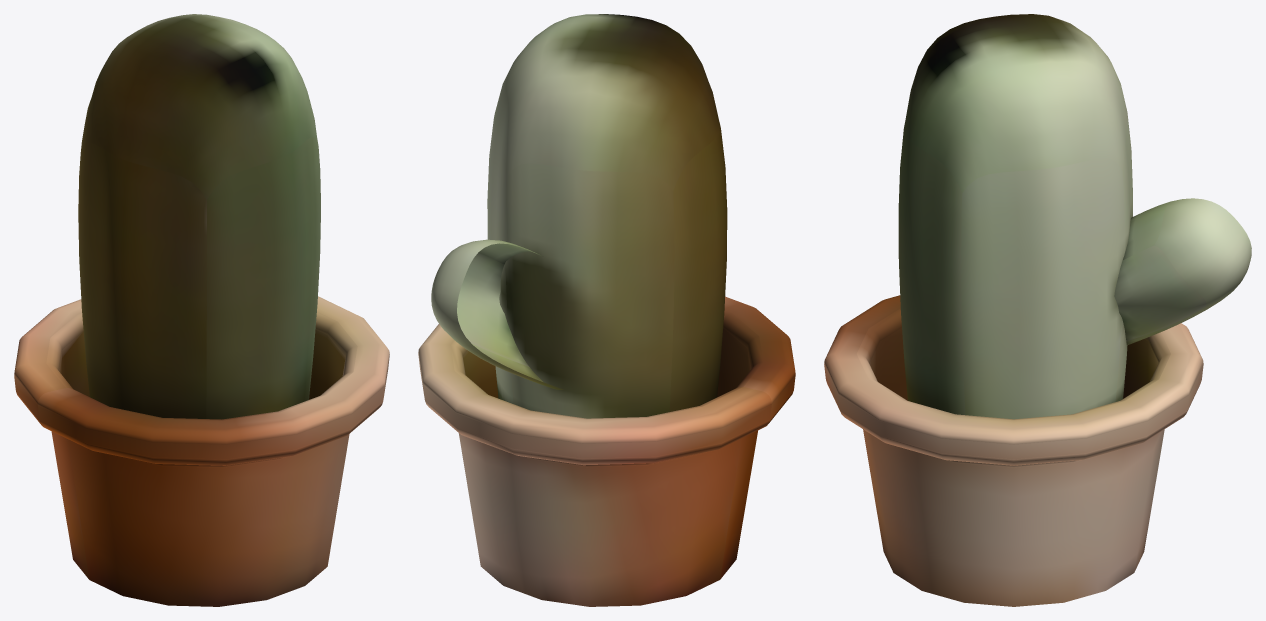
File: cactus.glb
The picture shows the model from 3 angles, left to right: view 1: azimuth 30°, elevation 25°; view 2: azimuth 150°, elevation 25°; view 3: azimuth 270°, elevation 25°; orthographic projection.
Visible parts, largest first — view 1: Cactus_Raycaster_Fourth_Hover; view 2: Cactus_Raycaster_Fourth_Hover; view 3: Cactus_Raycaster_Fourth_Hover.
Boxes of the visible parts, box(x1,y1,x2,y2) form: Cactus_Raycaster_Fourth_Hover: box(14, 14, 389, 606); Cactus_Raycaster_Fourth_Hover: box(418, 14, 795, 606); Cactus_Raycaster_Fourth_Hover: box(824, 14, 1251, 606).
Size of the model in its own units: 0.3992 by 0.6018 by 0.4499.
1 material, 1 textured.
